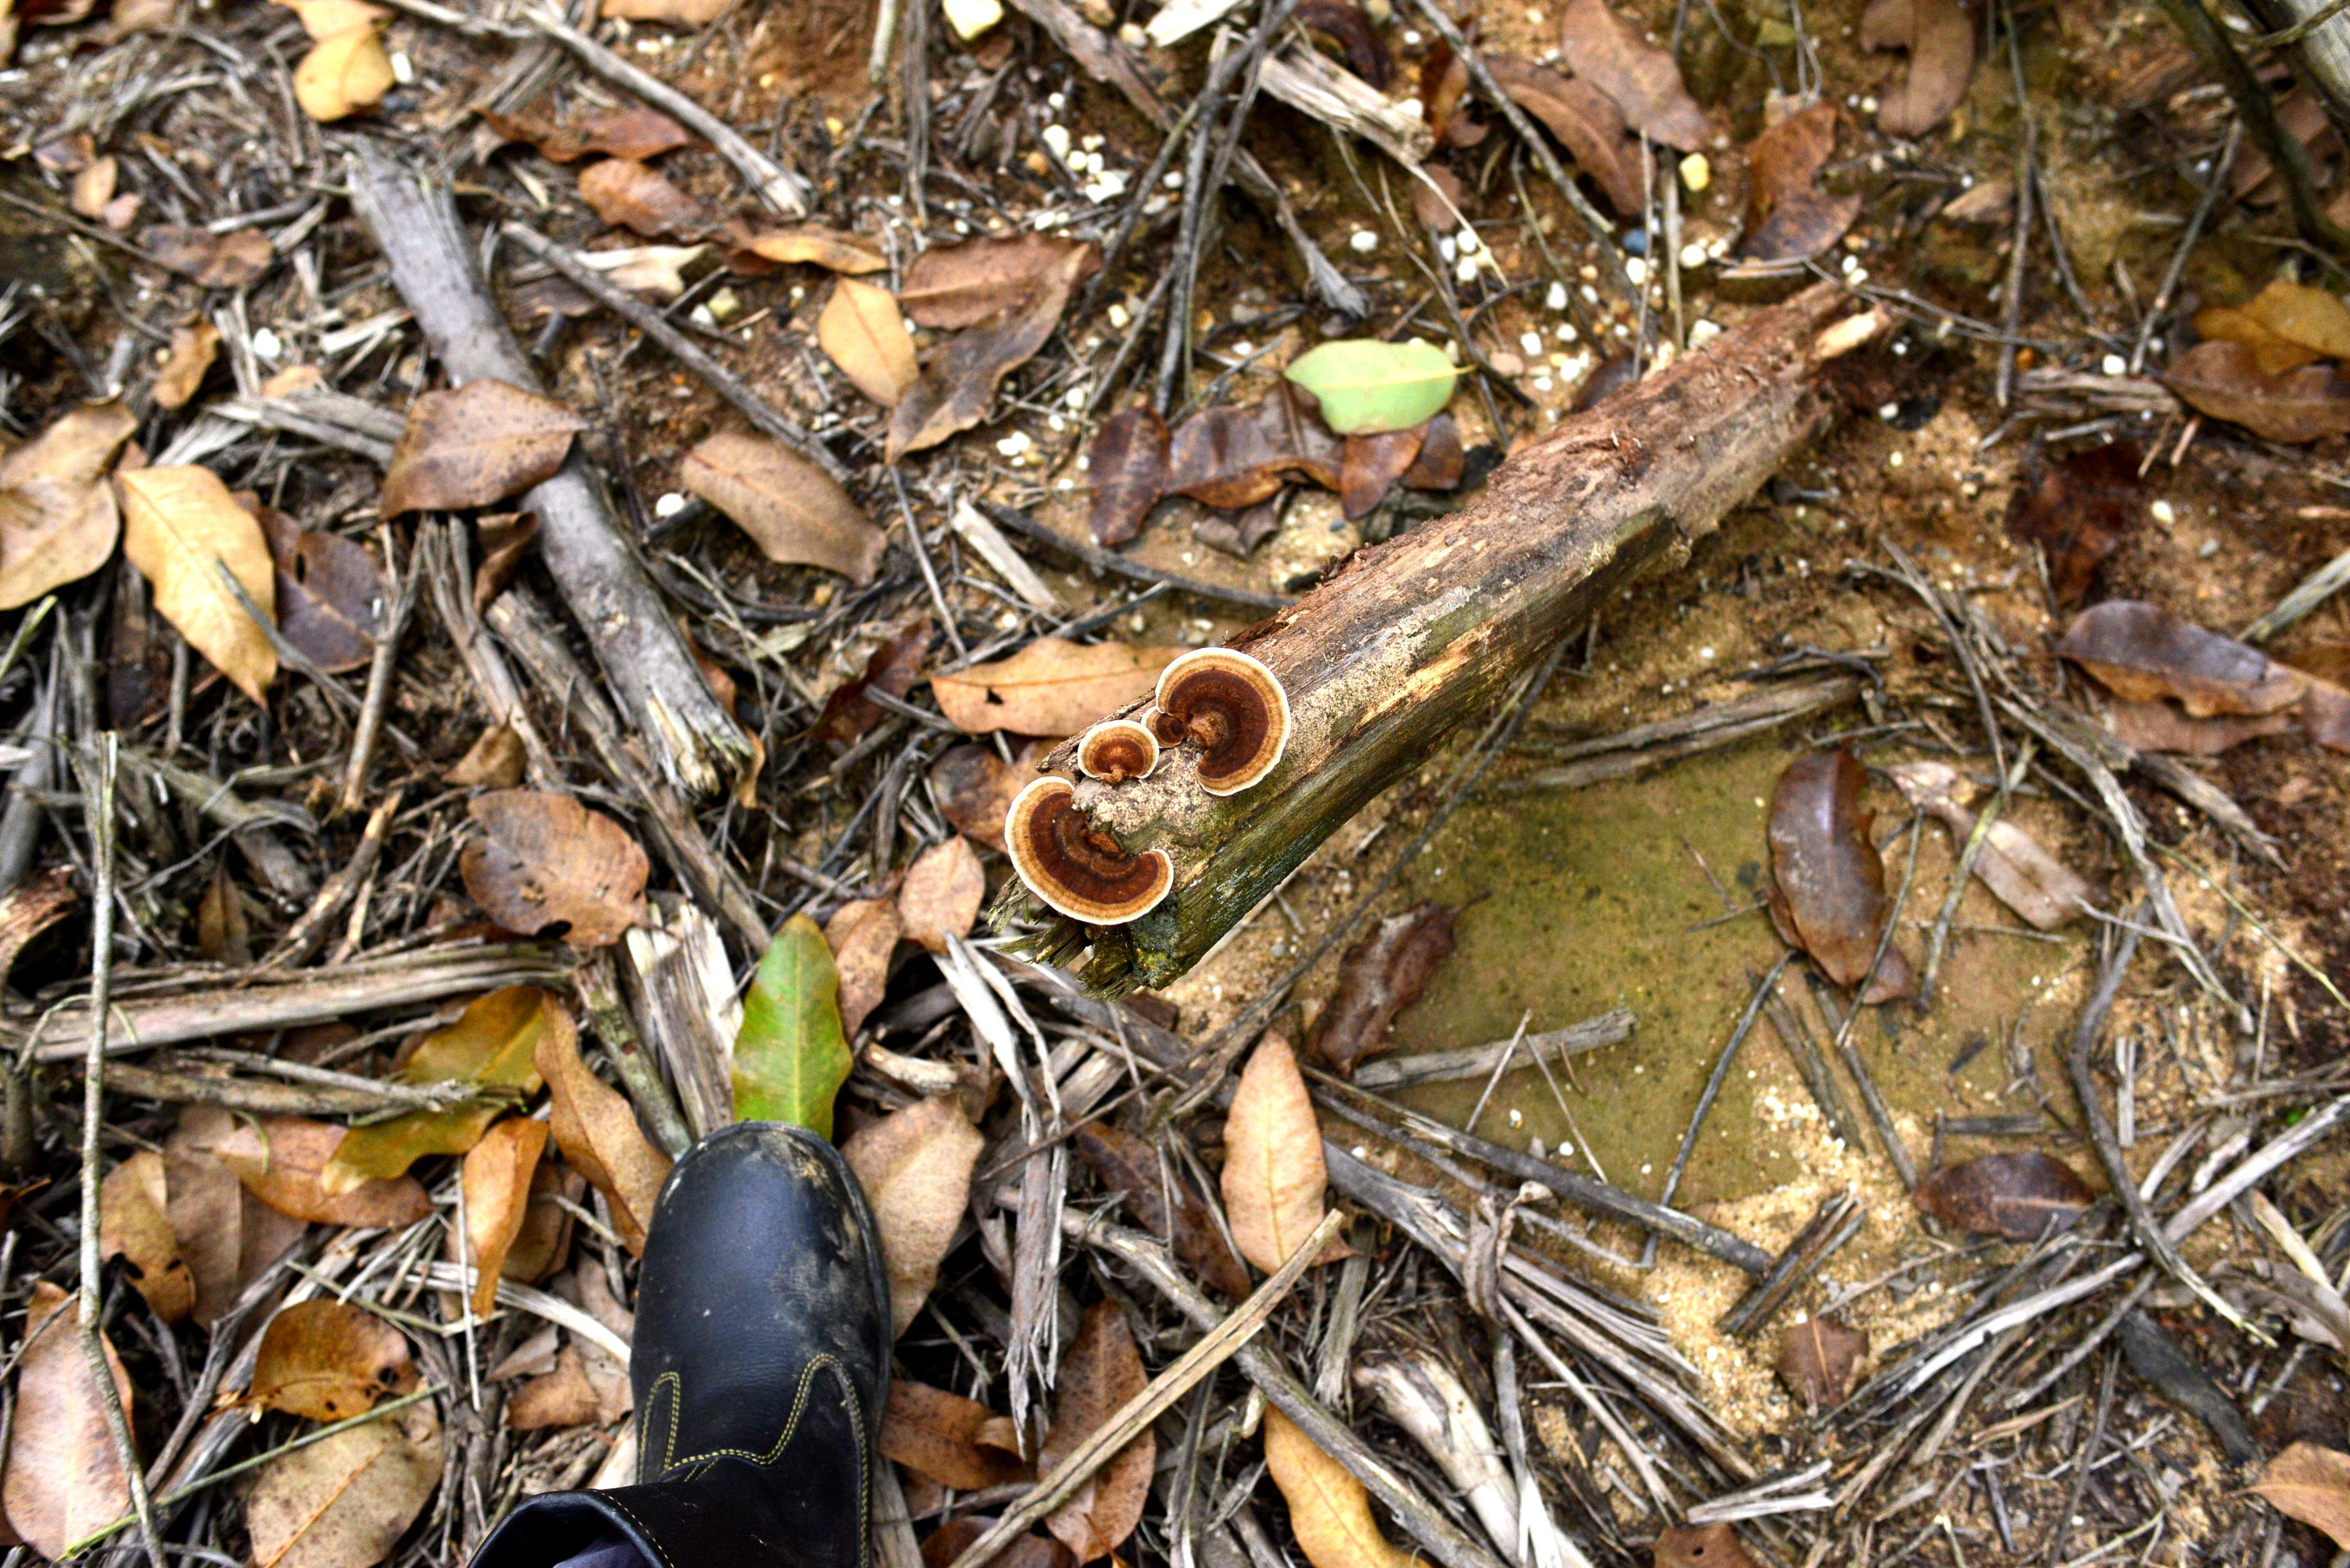Ganoderma - Fruit Body: (1029, 782, 1174, 915), (1153, 649, 1297, 779), (1073, 712, 1151, 786)
